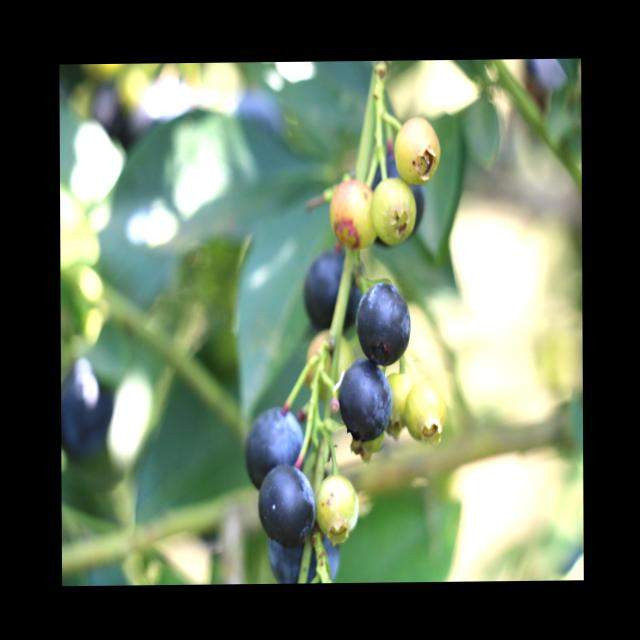blueberry: (355, 142, 428, 253), (300, 240, 370, 342), (238, 398, 310, 490), (250, 458, 318, 552), (352, 276, 414, 372), (336, 351, 396, 445), (263, 518, 343, 584)
blueberry-unripe: (331, 178, 379, 252), (313, 474, 358, 540), (373, 176, 415, 245), (404, 375, 444, 445), (398, 116, 439, 182)
